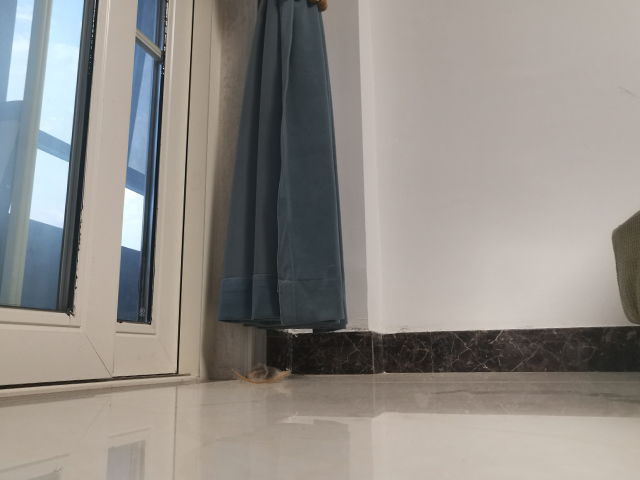curtain: (213, 1, 350, 336)
